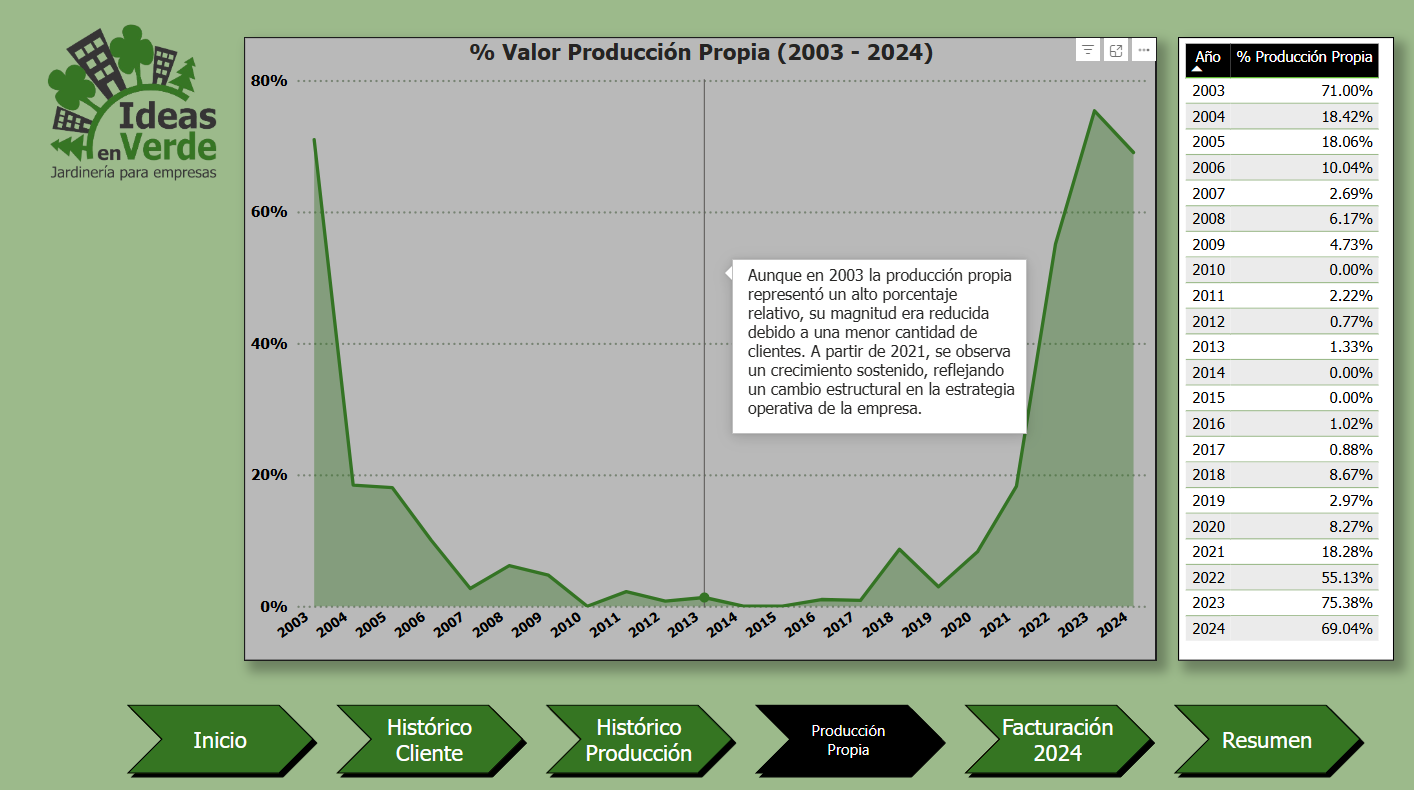

The dashboard page shown, as its layout file describes it:
{"tool":"powerbi","page":{"name":"Producción Propia","canvas":[1280,720],"ordinal":3},"visuals":[{"type":"pageNavigator","box":[114.1,633.3,1122.2,72.7],"z":0},{"type":"image","box":[31.1,22.4,184.8,149.8],"z":1000},{"type":"clusteredColumnChart","title":"% Valor Producción Propia (2006 - 2024)","fields":{"Category":["Tabla Resumen 2003-2024.AñoTexto"],"Y":["Avg(Tabla Resumen 2003-2024.%Produccion_Propia)"]},"box":[224.7,38.9,819,560.2],"z":2000},{"type":"tableEx","fields":{"Values":["Tabla Resumen 2003-2024.Año","Sum(Tabla Resumen 2003-2024.%Produccion_Propia)"]},"box":[1063.1,38.9,193.6,560.2],"z":3000}]}

Visuals, with their boxes in screenshot pixels (x1, y1, x2, y2), scaled from the page's 1280x720 canvas onto the 1414x790 screenshot:
pageNavigator: locate(126, 695, 1366, 775)
image: locate(34, 25, 239, 189)
"% Valor Producción Propia (2006 - 2024)" clusteredColumnChart: locate(248, 43, 1153, 657)
tableEx - Tabla Resumen 2003-2024.Año x Sum(Tabla Resumen 2003-2024.%Produccion_Propia): locate(1174, 43, 1388, 657)
